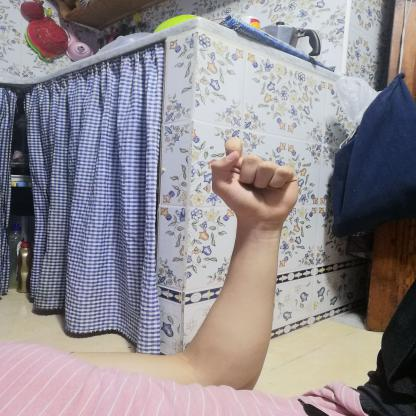FAA: (198, 130, 306, 233)
